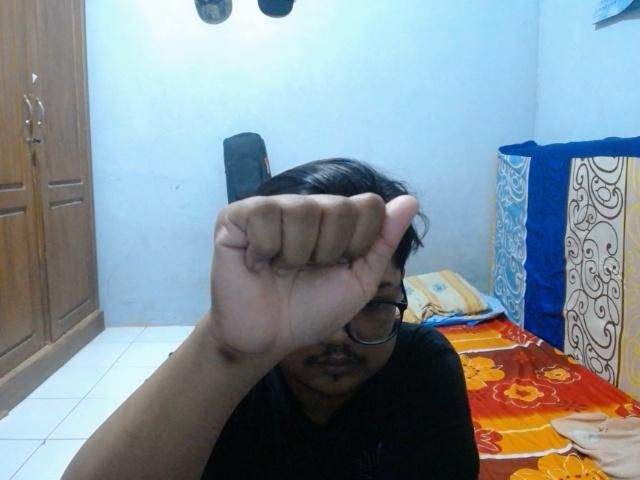Grab: (207, 189, 421, 373)
